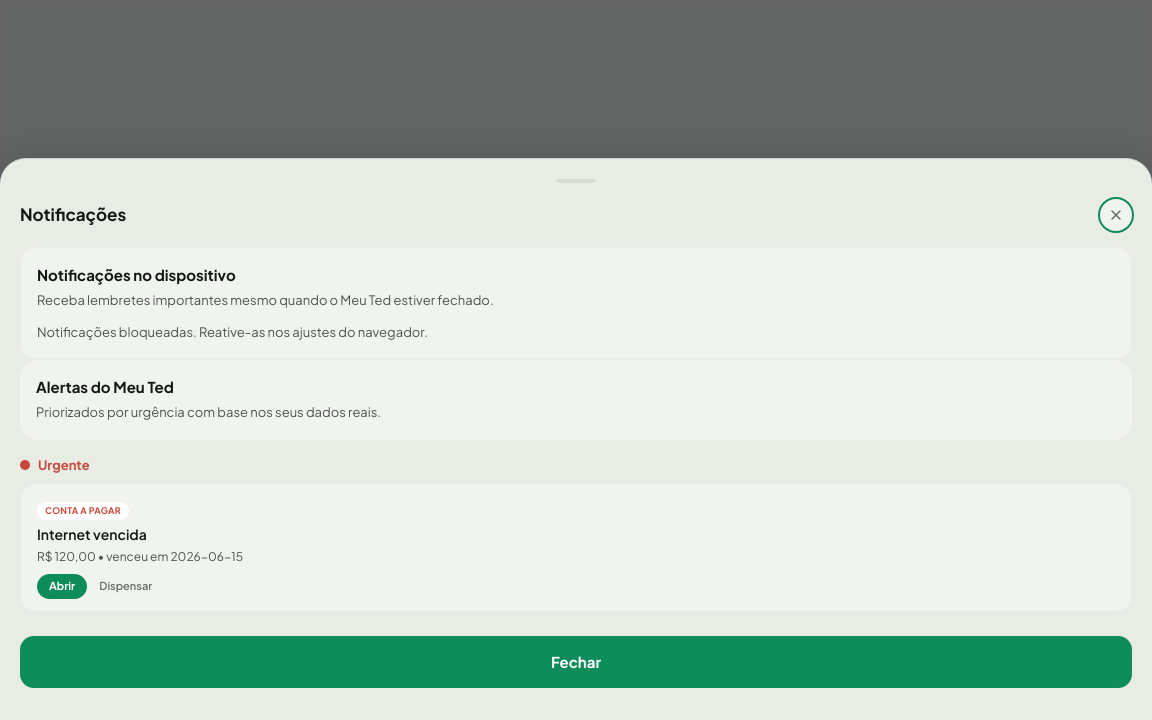
Scenario: NotificationsSheet › clicking 'Dispensar' hides the item
expect the text "Internet vencida" is shown: met, box [37, 524, 147, 542]
Click the button "Dispensar" at (126, 586), box [99, 578, 152, 594]
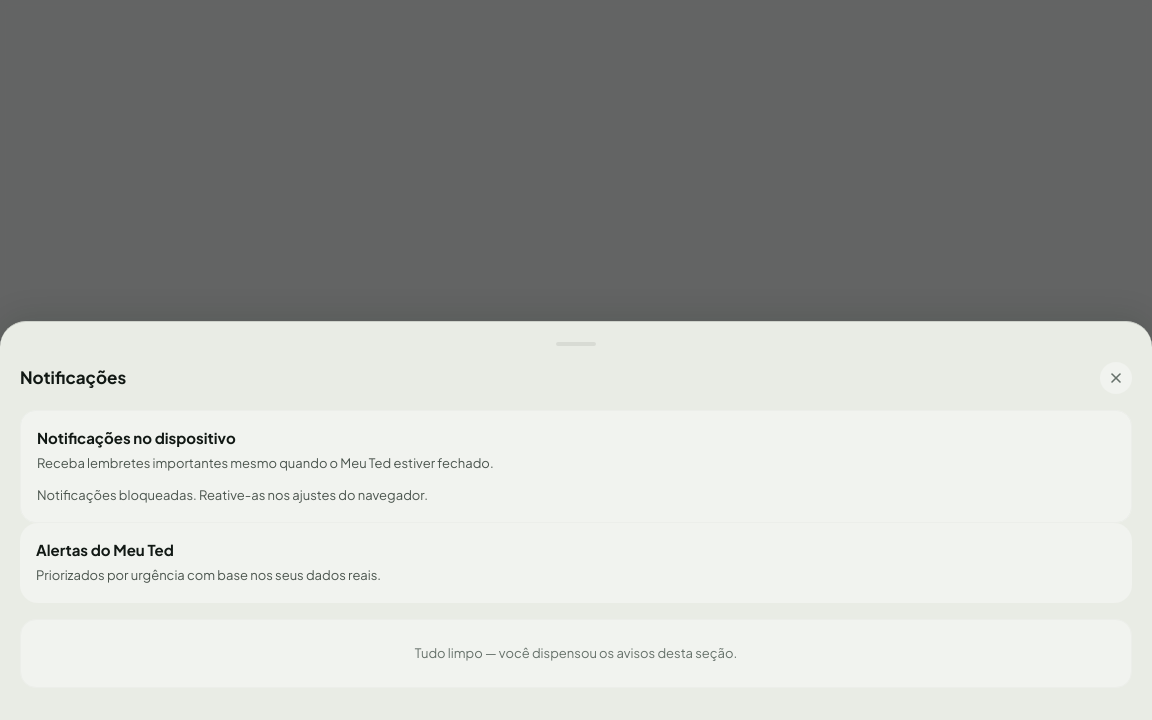
expect the text "Internet" is gone: met
